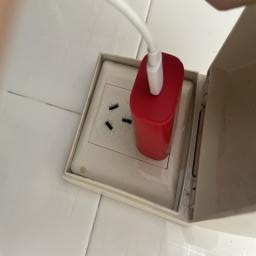outlet: (55, 33, 210, 224)
